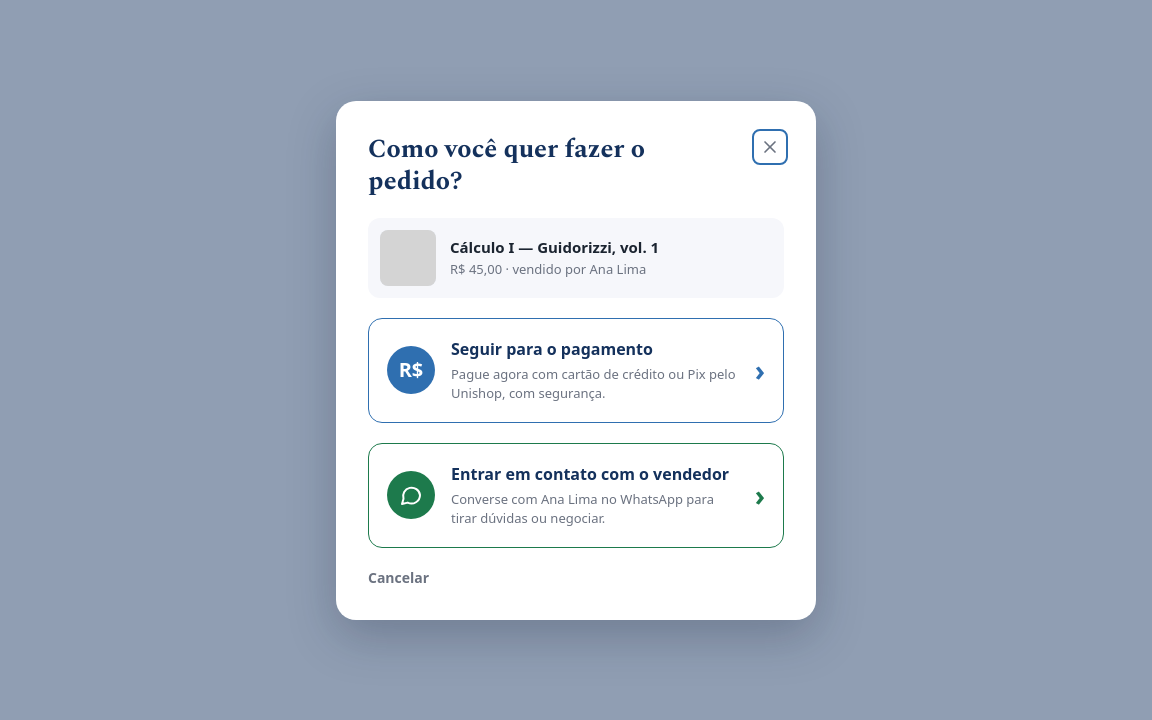
Test: OrderChoiceDialog › o contato com o vendedor ainda não leva a lugar nenhum: só mostra o aviso
The image size is (1152, 720).
Click the button "Entrar em contato com o vendedor" at [576, 495], box [368,442,784,548]
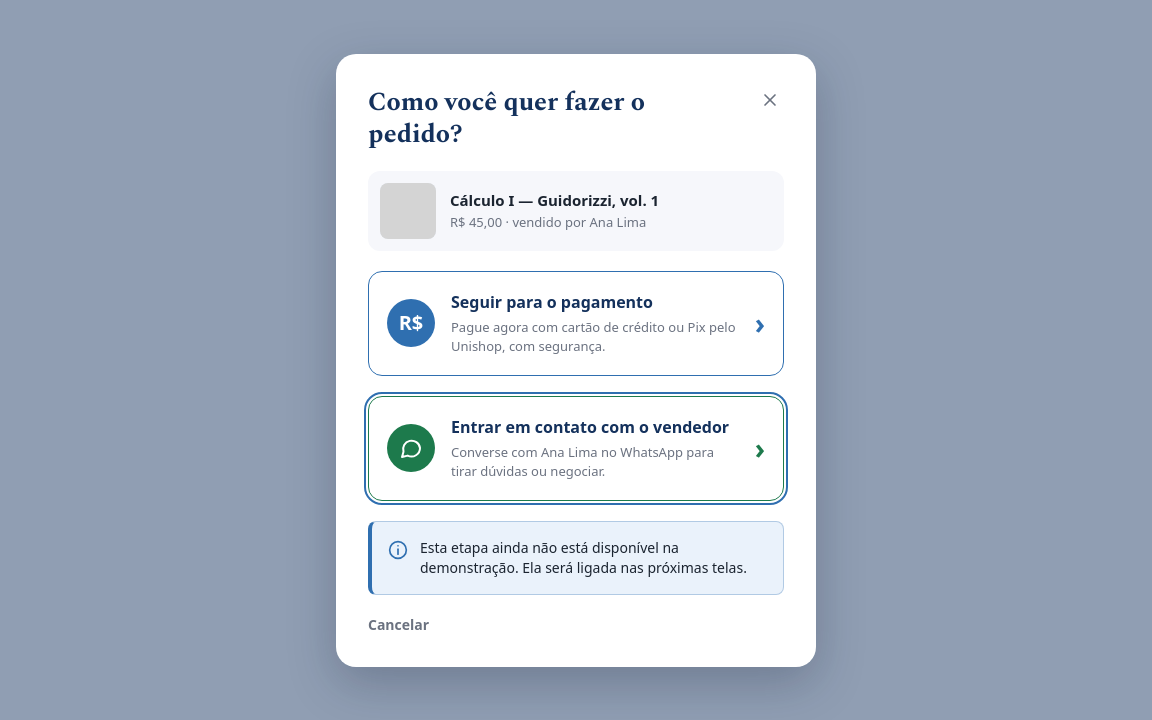
expect the dialog is shown: met, box [336,54,816,666]
expect the message shows "ainda não está disponível": met, box [420,538,747,576]
